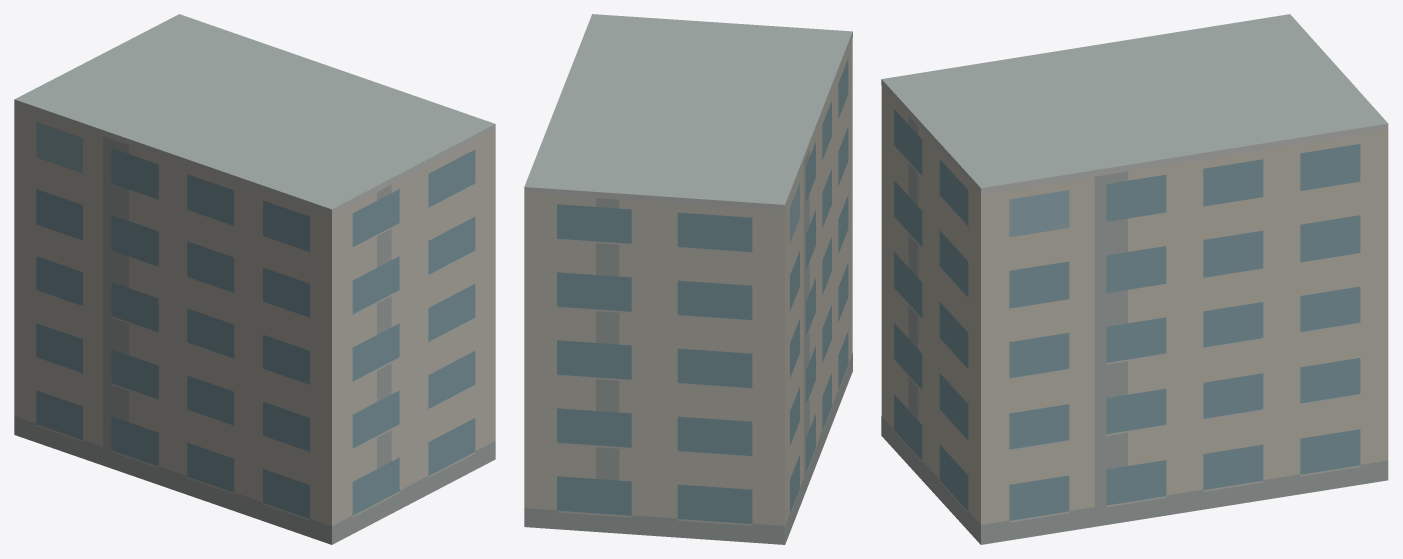
File: survey-upis-33025863.glb
3 views of the same model, side by side, from view 1: azimuth 30°, elevation 25°; view 2: azimuth 150°, elevation 25°; view 3: azimuth 270°, elevation 25° (orthographic). The views are drawn at different scales.
Visible parts, largest first — view 1: survey-upis-33025863.tmp; view 2: survey-upis-33025863.tmp; view 3: survey-upis-33025863.tmp.
Boxes of the visible parts, x1,y1,x2,y2 form: survey-upis-33025863.tmp: [14, 14, 495, 544]; survey-upis-33025863.tmp: [524, 14, 852, 544]; survey-upis-33025863.tmp: [881, 14, 1388, 544].
Bounding box in the file's own units: 13.94 × 13.3 × 17.14.
